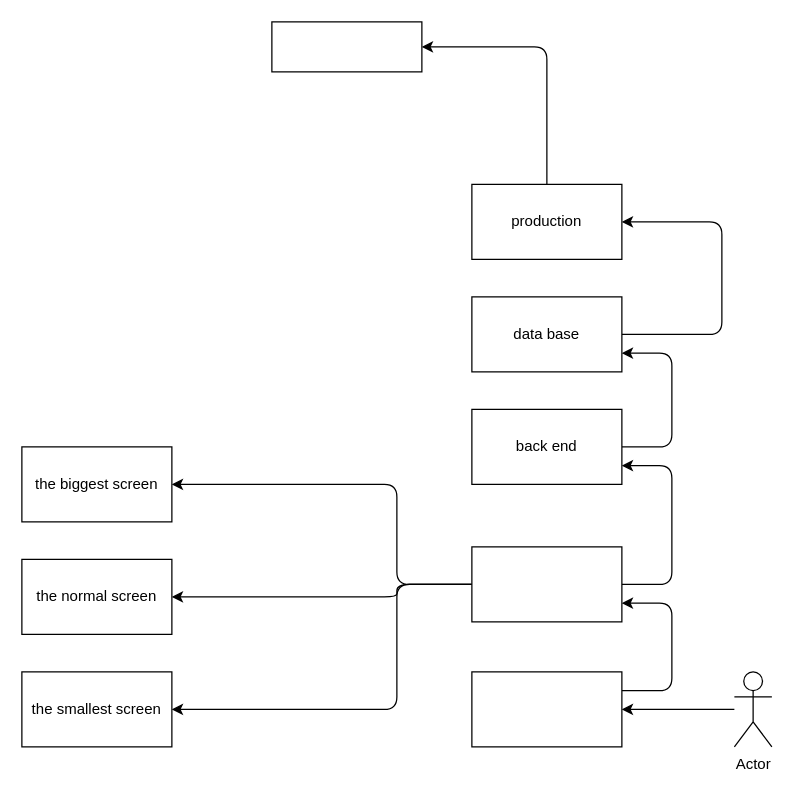
This 794x795 diagram has some shape labels left out. The box of each missing label's shape, as (x1, y1, x2, y2) in pixels:
front end: (471, 546, 622, 622)
ready product: (271, 21, 422, 72)
to start: (471, 671, 622, 747)
